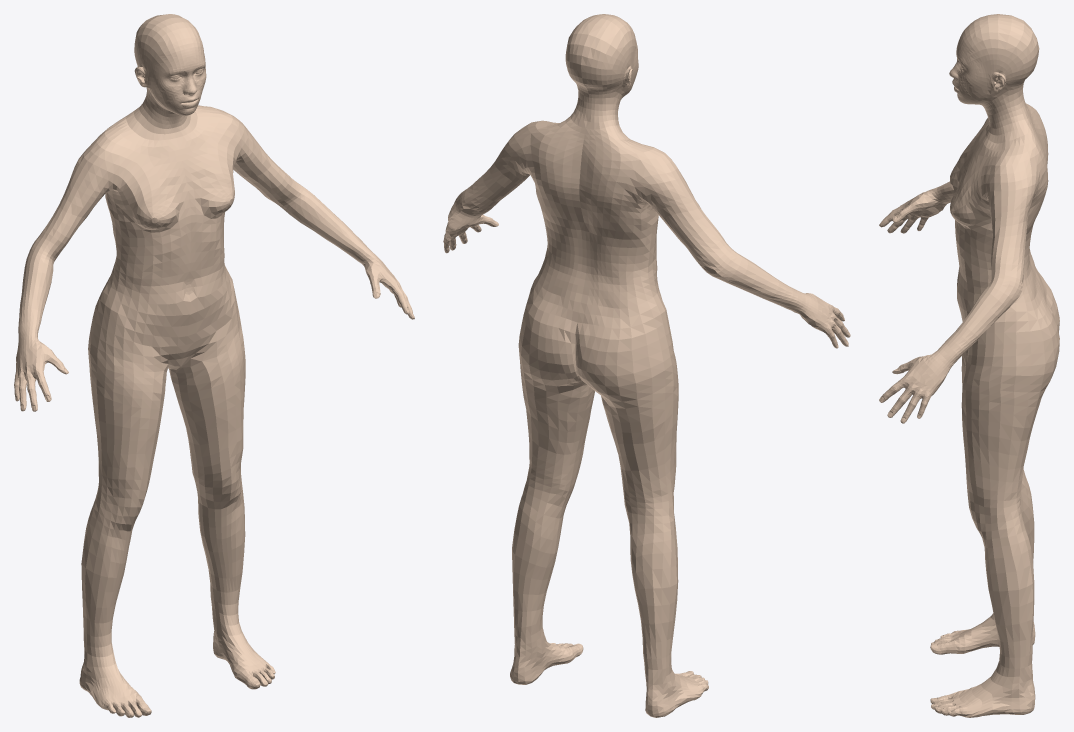
The model's file is female-young-average-low.glb.
3 views of the same model, side by side, from view 1: azimuth 30°, elevation 25°; view 2: azimuth 150°, elevation 25°; view 3: azimuth 270°, elevation 25° (orthographic).
Visible parts, largest first — view 1: world; view 2: world; view 3: world.
Boxes of the visible parts, x1,y1,x2,y2 form: world: [14, 14, 414, 717]; world: [443, 14, 850, 717]; world: [879, 14, 1059, 717].
Bounding box in the file's own units: 1.09 × 1.76 × 0.4338.
